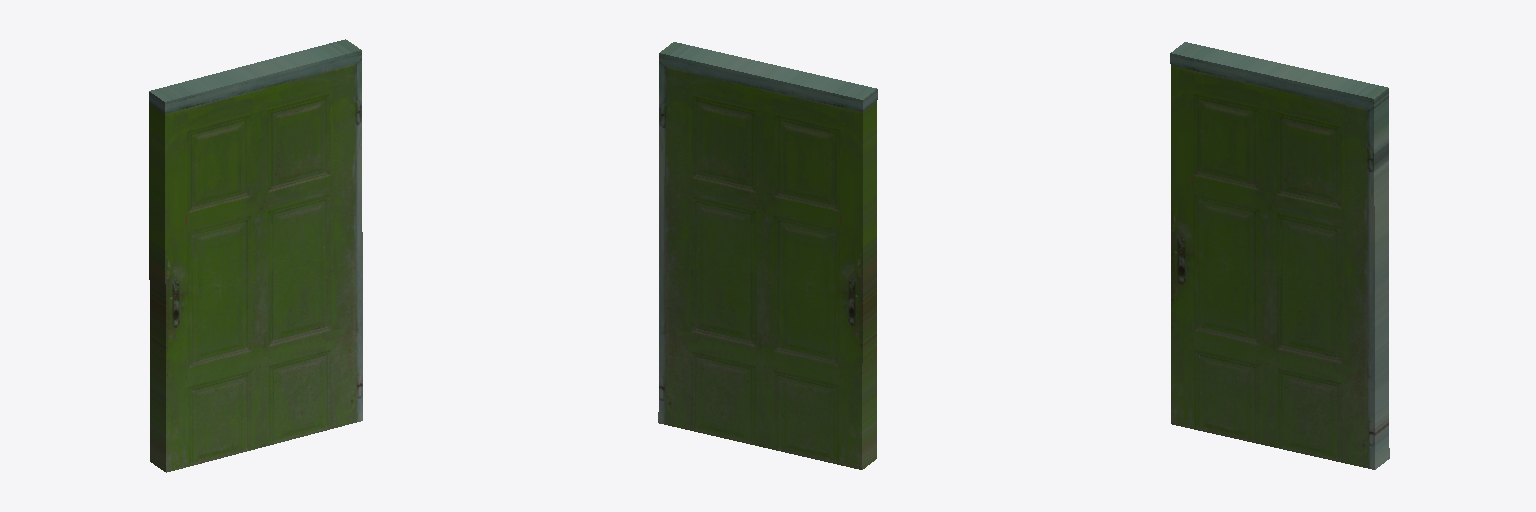
The picture shows the model from 3 angles: view 1: azimuth 30°, elevation 25°; view 2: azimuth 150°, elevation 25°; view 3: azimuth 330°, elevation 25°; orthographic projection.
Visible parts, largest first — view 1: pCube87; view 2: pCube87; view 3: pCube87.
Part boxes in pixels (x1,y1,x2,y2): pCube87: (149,39,362,472); pCube87: (658,42,877,469); pCube87: (1170,42,1389,469).
Size of the model in its own units: 1.78 by 3.12 by 0.289.
Materials: 1 (1 with a texture image).